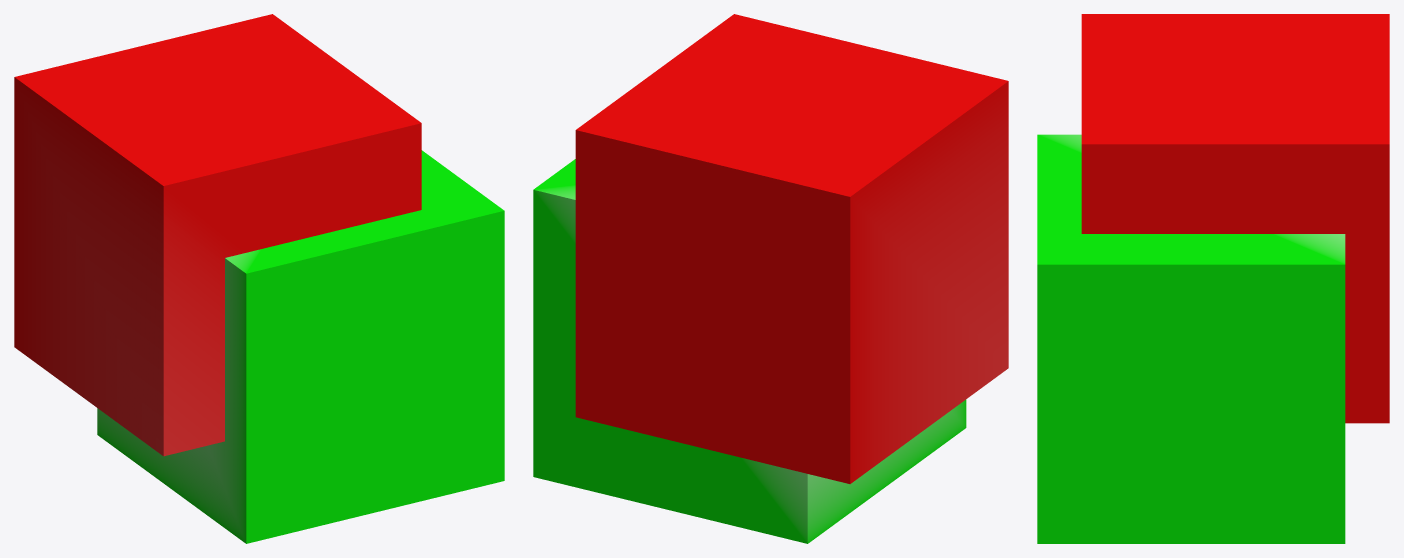
3 views of the same model, side by side, from view 1: azimuth 30°, elevation 25°; view 2: azimuth 150°, elevation 25°; view 3: azimuth 270°, elevation 25° (orthographic). The views are drawn at different scales.
Parts seen in each view (by area): view 1: SubMeshCube; view 2: SubMeshCube; view 3: SubMeshCube.
Boxes of the visible parts, <box> form: SubMeshCube: <box>14,14,504,543</box>; SubMeshCube: <box>533,14,1008,543</box>; SubMeshCube: <box>1037,14,1389,543</box>.
Bounding box in the file's own units: 247 × 264 × 229.
